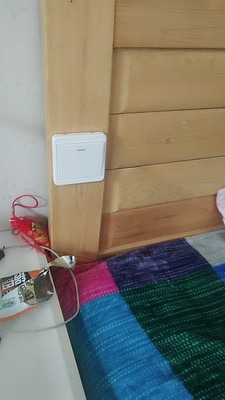switch: (65, 148, 104, 178)
